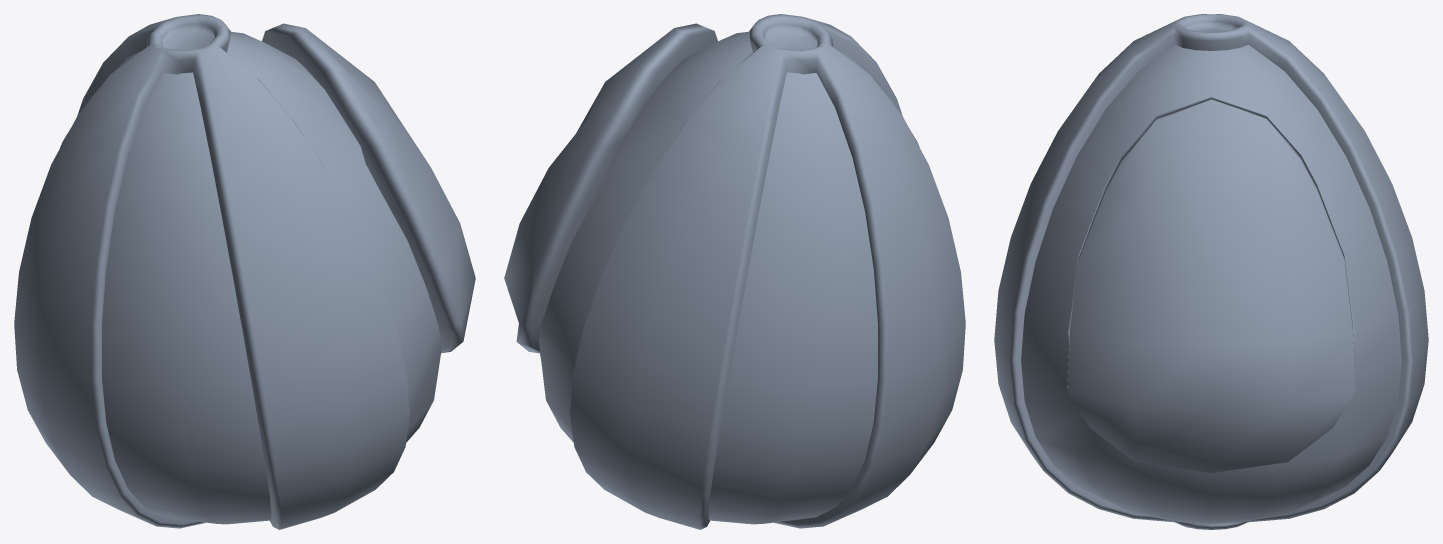
File: Drop Pod.fbx
3 renders of one model, left to right at view 1: azimuth 30°, elevation 25°; view 2: azimuth 150°, elevation 25°; view 3: azimuth 270°, elevation 25°, orthographic. The views are drawn at different scales.
Visible parts, largest first — view 1: Outer_Pod, Pod, Door; view 2: Outer_Pod, Pod, Door; view 3: Door, Pod, Outer_Pod.
Part boxes in pixels (x1,y1,x2,y2): Outer_Pod: (14,14,409,529); Pod: (60,31,441,524); Door: (262,23,475,353); Outer_Pod: (570,14,965,529); Pod: (538,31,919,524); Door: (504,23,717,353); Door: (1067,97,1355,473); Pod: (1021,45,1401,523); Outer_Pod: (994,14,1428,529).
Size of the model in its own units: 5.8 by 6.69 by 5.57.
